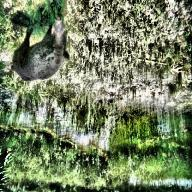boar: (2, 1, 89, 97)
